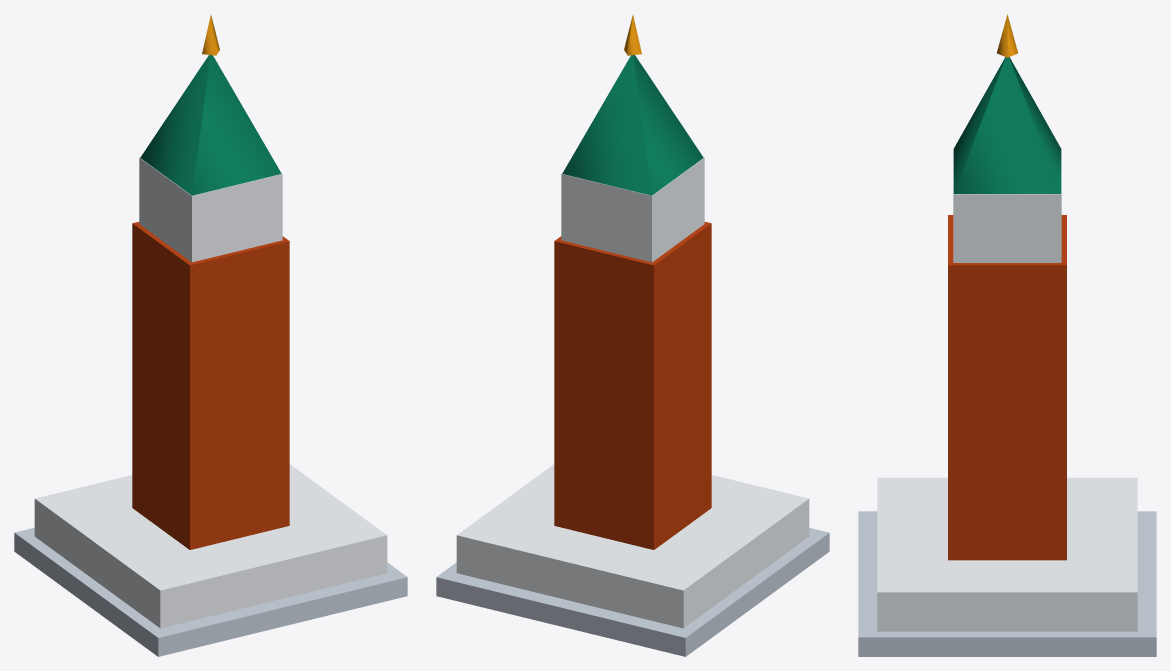
File: bld_c3_cell_27.glb
3 views of the same model, side by side, from view 1: azimuth 30°, elevation 25°; view 2: azimuth 150°, elevation 25°; view 3: azimuth 270°, elevation 25° (orthographic). The views are drawn at different scales.
Parts seen in each view (by area): view 1: Bld_C3_Cell_27_BespokeLandmark; view 2: Bld_C3_Cell_27_BespokeLandmark; view 3: Bld_C3_Cell_27_BespokeLandmark.
Boxes of the visible parts, x1=… form: Bld_C3_Cell_27_BespokeLandmark: x1=14, y1=15, x2=407, y2=656; Bld_C3_Cell_27_BespokeLandmark: x1=436, y1=15, x2=829, y2=656; Bld_C3_Cell_27_BespokeLandmark: x1=858, y1=14, x2=1156, y2=656.
Size of the model in its own units: 0.55 by 1.18 by 0.55.
